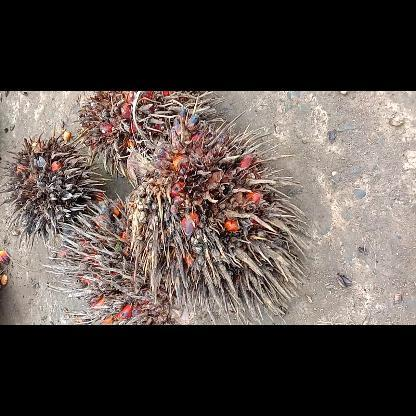Terlalu masak: (115, 102, 312, 324), (43, 192, 200, 324), (68, 91, 230, 181), (0, 125, 109, 256)
